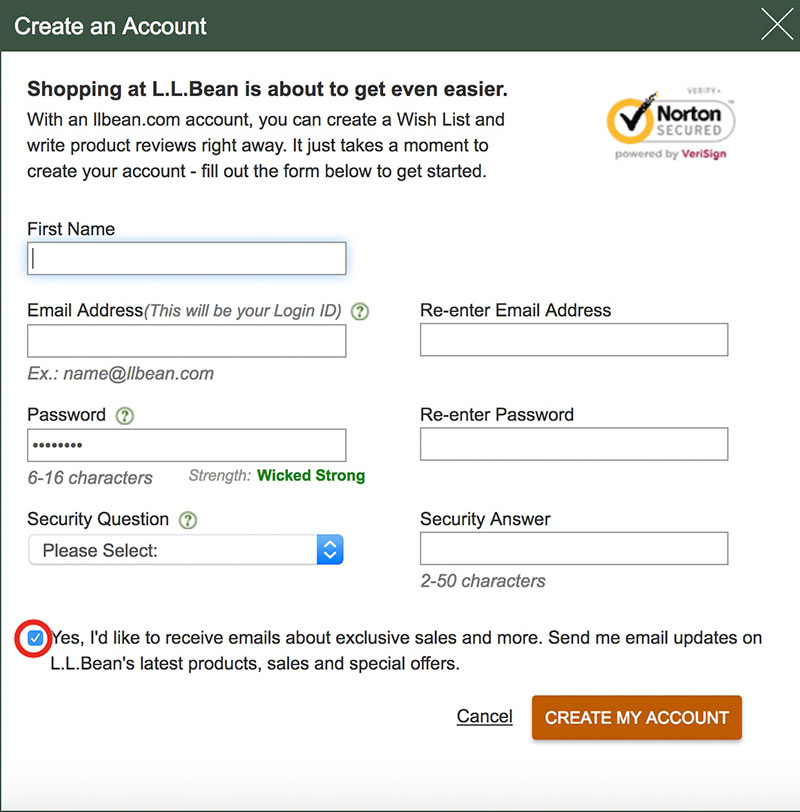button: (530, 690, 750, 744), (447, 701, 518, 734)
dropdown: (21, 528, 353, 577)
textbox: (418, 316, 736, 369), (415, 423, 737, 472), (21, 319, 351, 363), (21, 238, 352, 278), (24, 425, 350, 464), (412, 528, 735, 567)
textfield: (412, 316, 739, 376), (20, 320, 362, 375), (23, 238, 359, 286), (24, 428, 354, 469)
